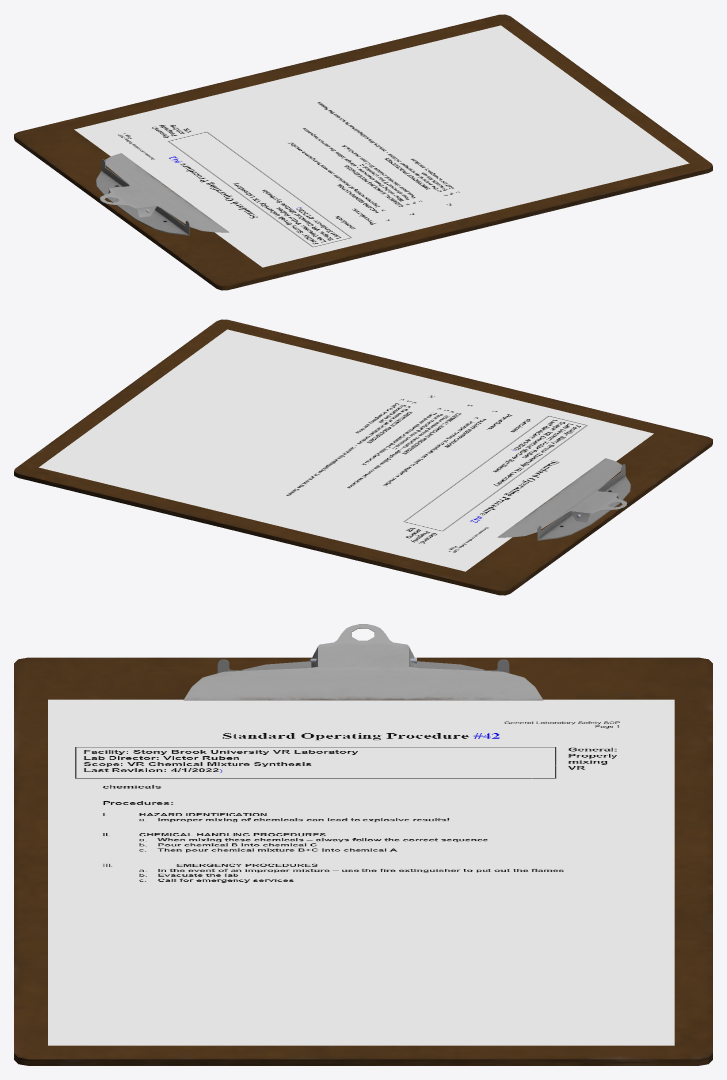
The model's file is clipBoardGreatlyCompressed.glb.
3 views of the same model, one above another, from view 1: azimuth 30°, elevation 25°; view 2: azimuth 150°, elevation 25°; view 3: azimuth 270°, elevation 25° (orthographic). The views are drawn at different scales.
Parts seen in each view (by area): view 1: Plane.002, fakewoodboard.001, Clipper.001, metalThingy.001; view 2: Plane.002, fakewoodboard.001, Clipper.001, metalThingy.001; view 3: Plane.002, fakewoodboard.001, Clipper.001, metalThingy.001.
Part boxes in pixels (box(x1,y1,x2,y2)): Plane.002: box(74, 25, 689, 267); fakewoodboard.001: box(14, 14, 712, 290); Clipper.001: box(100, 153, 229, 232); metalThingy.001: box(96, 159, 189, 235); Plane.002: box(39, 329, 653, 571); fakewoodboard.001: box(14, 319, 712, 595); Clipper.001: box(497, 458, 626, 537); metalThingy.001: box(537, 464, 630, 540); Plane.002: box(48, 699, 674, 1045); fakewoodboard.001: box(14, 657, 712, 1065); Clipper.001: box(184, 624, 542, 700); metalThingy.001: box(217, 659, 509, 673).
Size of the model in its own units: 8.29 by 0.2704 by 5.92.
5 materials, 4 textured.
